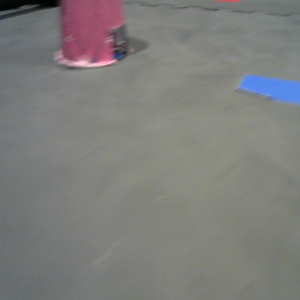middle: (53, 1, 136, 69)
